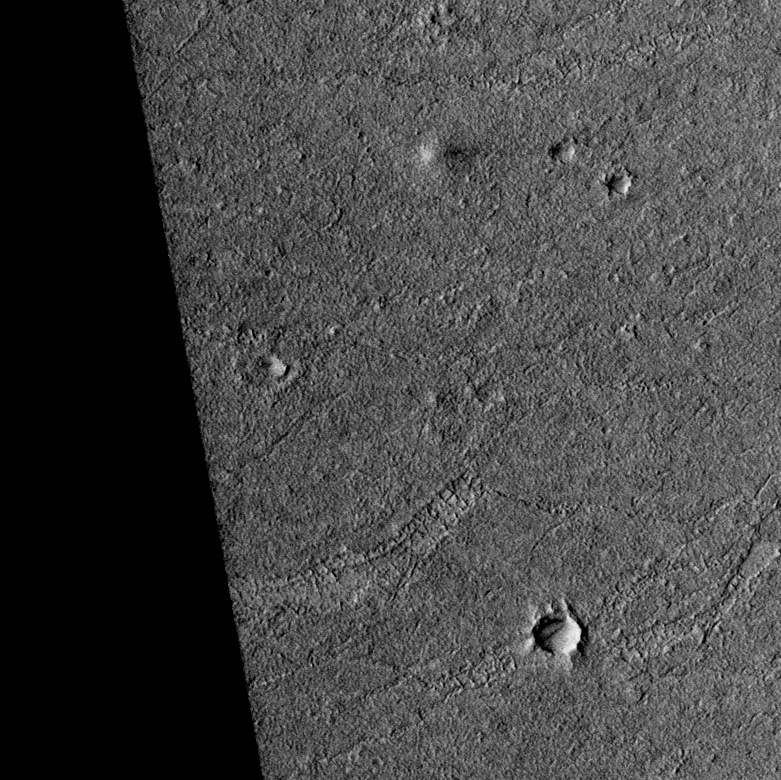dust_devil: (416, 138, 481, 169)
